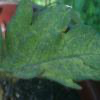Tomato mold leaf: (4, 2, 99, 94)
